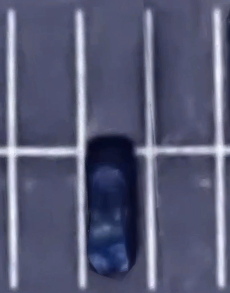Occupied: (79, 151, 152, 288)
Vacant: (148, 10, 222, 152), (9, 10, 82, 153), (78, 11, 151, 150), (9, 151, 83, 288), (149, 150, 221, 287)
